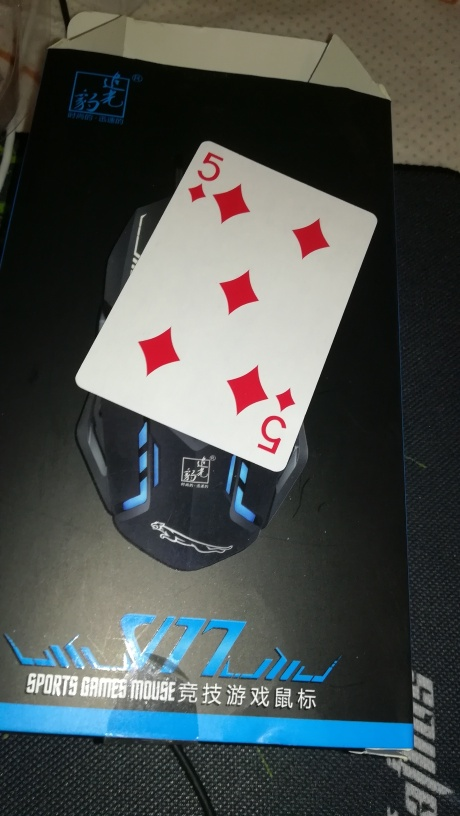fk 5: (72, 136, 384, 474)
